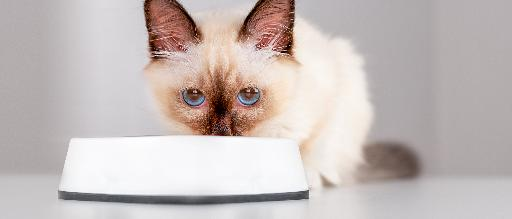cat_eating: (64, 0, 417, 196)
